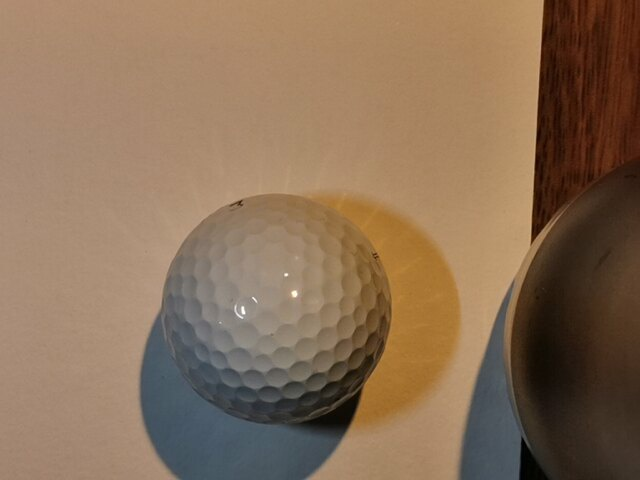Ball: (161, 193, 392, 425)
